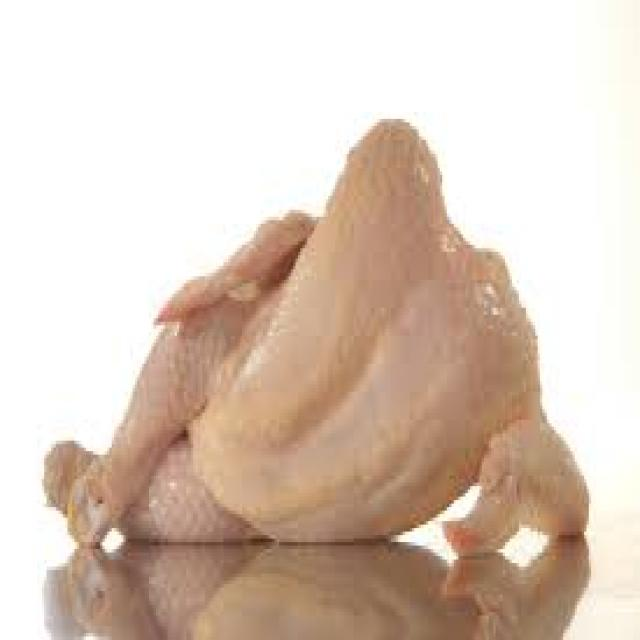chicken: (44, 119, 591, 556)
